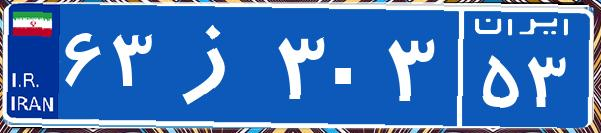0: (330, 28, 385, 110)
3: (385, 28, 445, 110), (273, 28, 330, 110), (110, 28, 158, 105), (525, 38, 570, 115)
5: (475, 38, 525, 113)
6: (57, 26, 110, 107)
ز: (158, 15, 273, 115)
